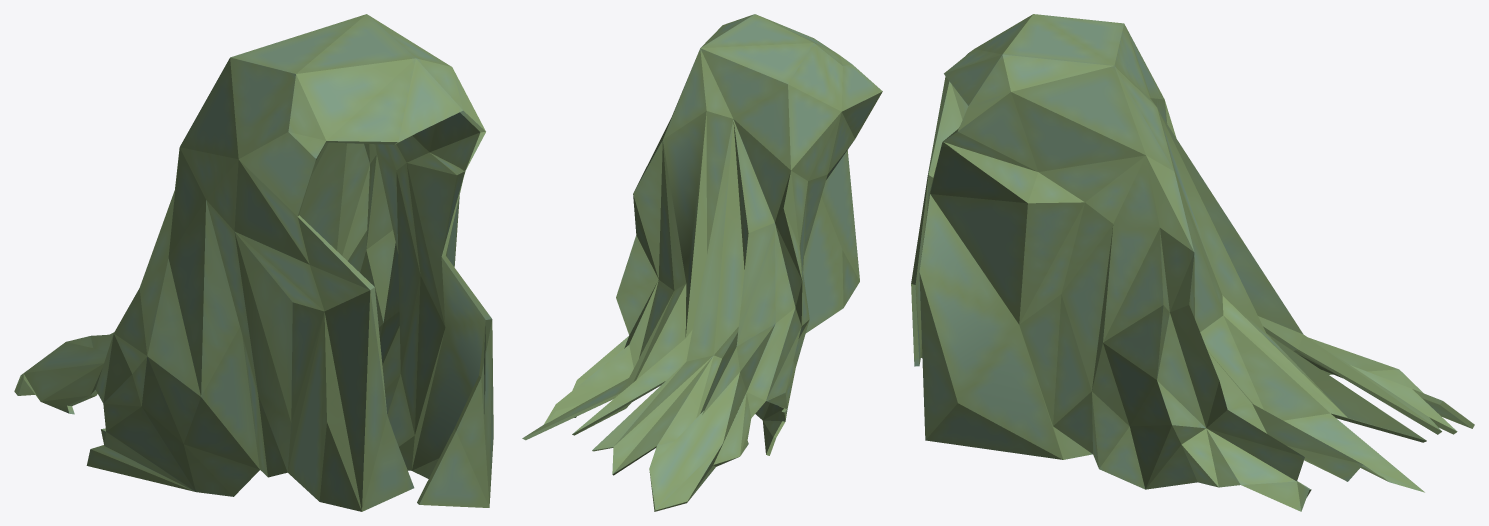
The model's file is Checkpoint_Cover.obj.
The picture shows the model from 3 angles, left to right: view 1: azimuth 30°, elevation 25°; view 2: azimuth 150°, elevation 25°; view 3: azimuth 270°, elevation 25°; orthographic projection. The views are drawn at different scales.
Visible parts, largest first — view 1: Plane; view 2: Plane; view 3: Plane.
Boxes of the visible parts, box(x1,y1,x2,y2) form: Plane: box(14, 14, 493, 511); Plane: box(522, 14, 882, 511); Plane: box(911, 14, 1474, 511).
Size of the model in its own units: 0.547 by 0.9105 by 1.09.
Materials: 1 (1 with a texture image).
